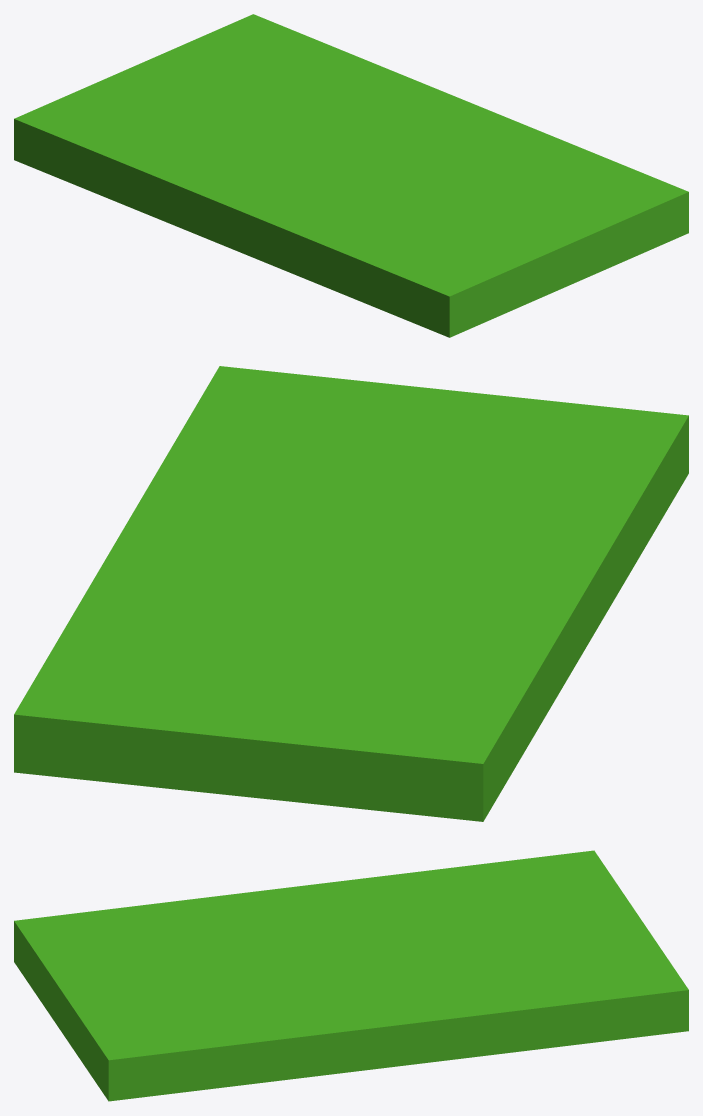
3 renders of one model, top to bottom at view 1: azimuth 30°, elevation 25°; view 2: azimuth 150°, elevation 25°; view 3: azimuth 270°, elevation 25°, orthographic. The views are drawn at different scales.
Visible parts, largest first — view 1: Circle.234; view 2: Circle.234; view 3: Circle.234.
Boxes of the visible parts, x1,y1,x2,y2 form: Circle.234: (14,14,688,337); Circle.234: (14,366,688,821); Circle.234: (14,850,688,1101).
Size of the model in its own units: 32.8 by 3 by 44.58.
